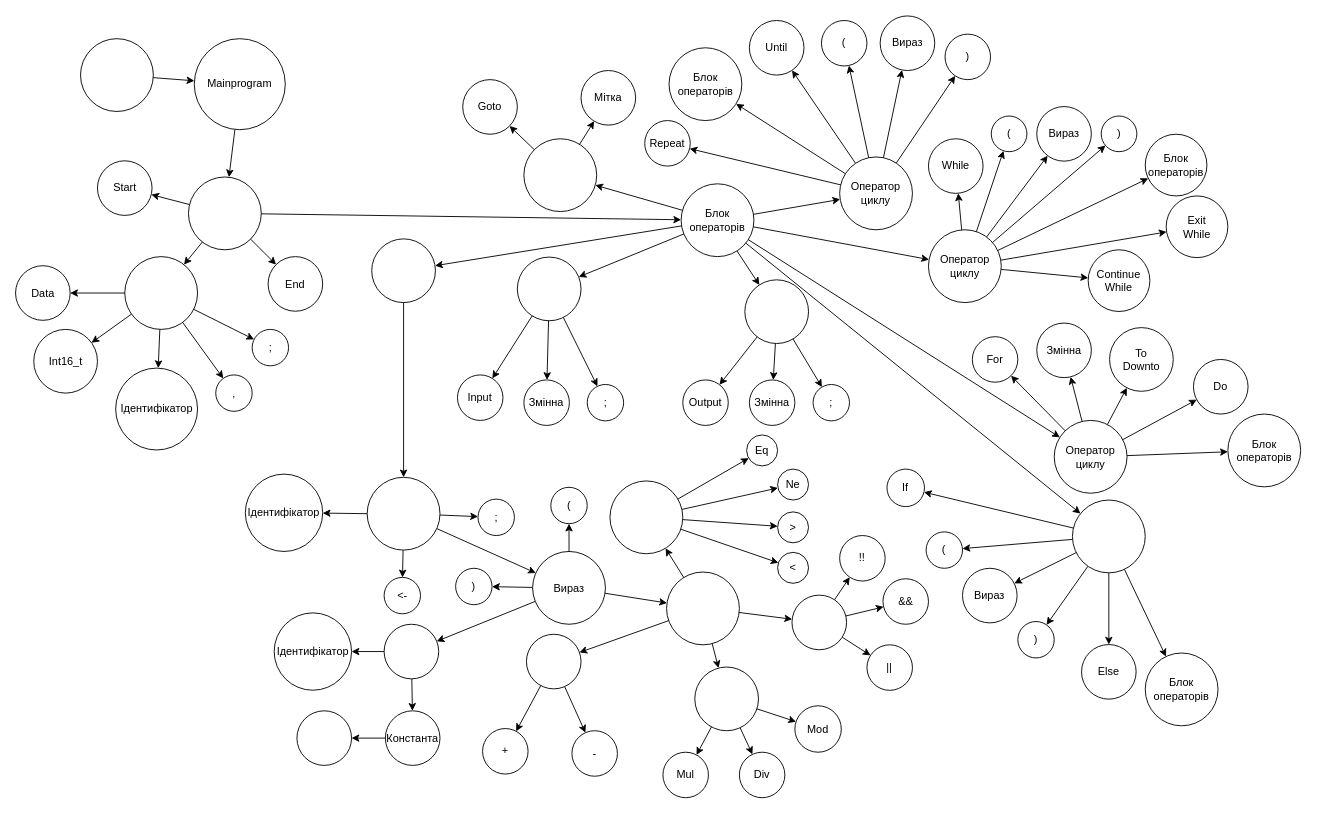
Some shapes in this 1318 by 814 pixel diagram are drawn without their labels. Here are the shapes that lost their labels. From the top down, the centre of each, then its label:
At pixel 116 74: "Основна програма".
At pixel 560 175: "Оператор переходу".
At pixel 224 213: "Блок коду".
At pixel 403 270: "Простий оператор".
At pixel 548 288: "Оператор вводу".
At pixel 161 292: "Блок змінних".
At pixel 776 311: "Оператор виводу".
At pixel 403 513: "Присвоєння".
At pixel 646 517: "Операції порівняння".
At pixel 1108 536: "Оператор умови".
At pixel 702 608: "Операції".
At pixel 819 622: "Логічна операція".
At pixel 411 651: "Операнд".
At pixel 553 661: "Адитивна операція".
At pixel 726 698: "Мультиплі кативна операція".
At pixel 324 737: "Знак".
